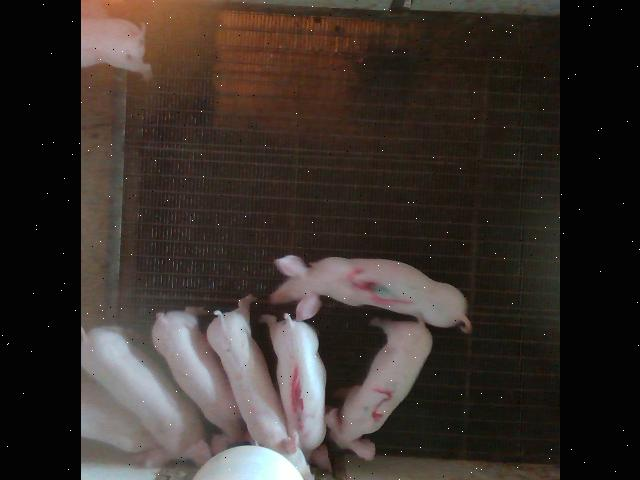pig-1: (262, 314, 328, 470)
pig-3: (269, 256, 470, 332)
pig-5: (324, 320, 431, 460)
